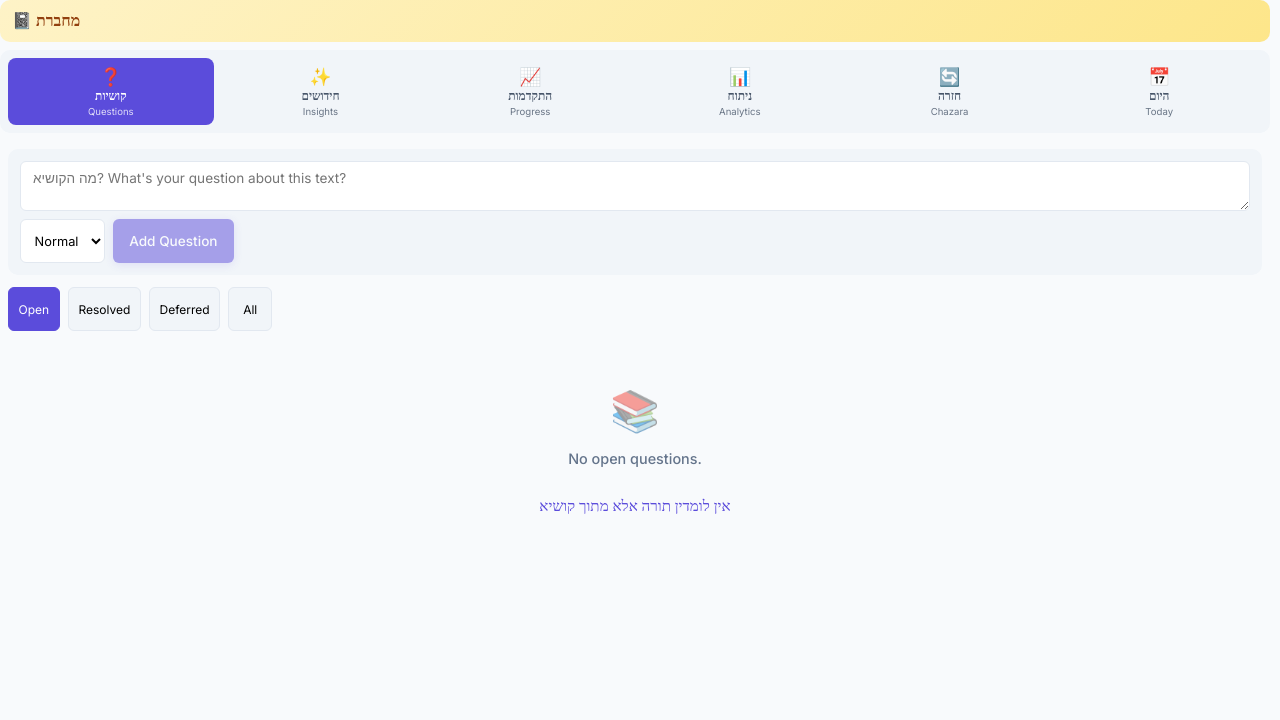
NotebookTab (rendu + navigation des sous-onglets) › Insights : vide au départ
The width and height of the screenshot is (1280, 720).
Click the button "✨ חידושים Insights": (321, 92) top-left (218, 58), bottom-right (423, 125)
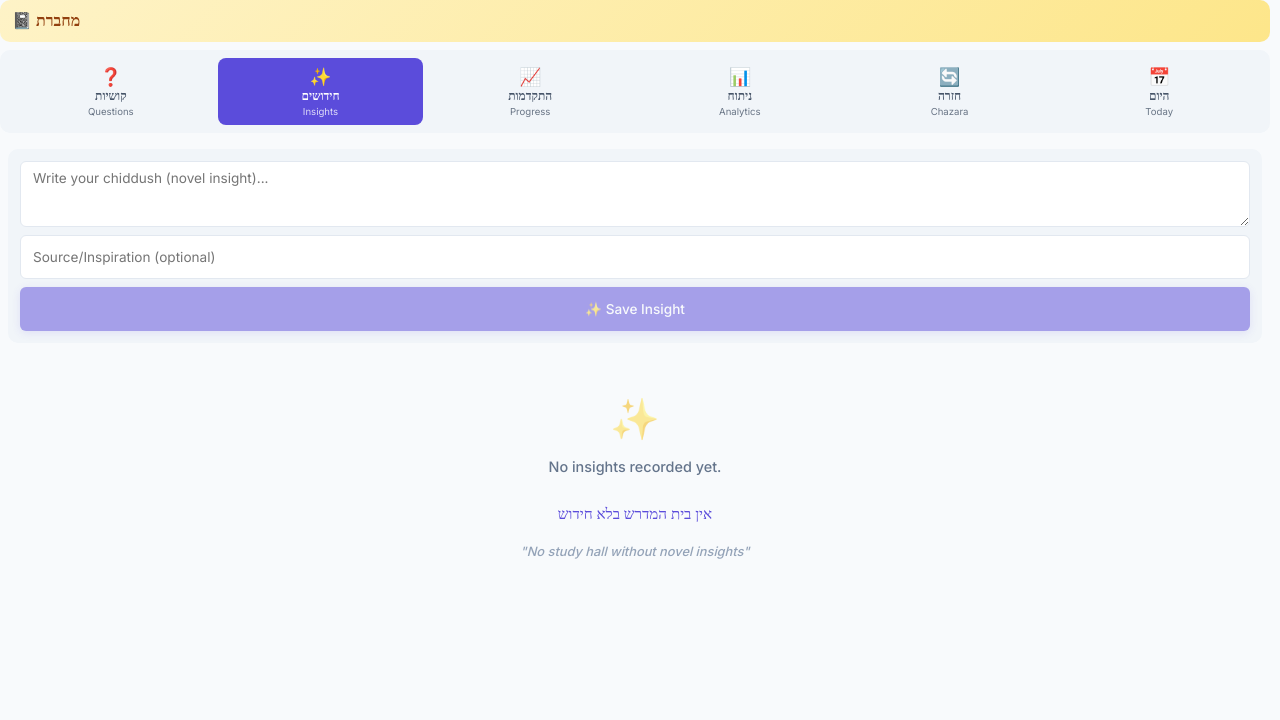
Now the text "No insights recorded yet." is shown, box top-left (549, 455), bottom-right (721, 478)
